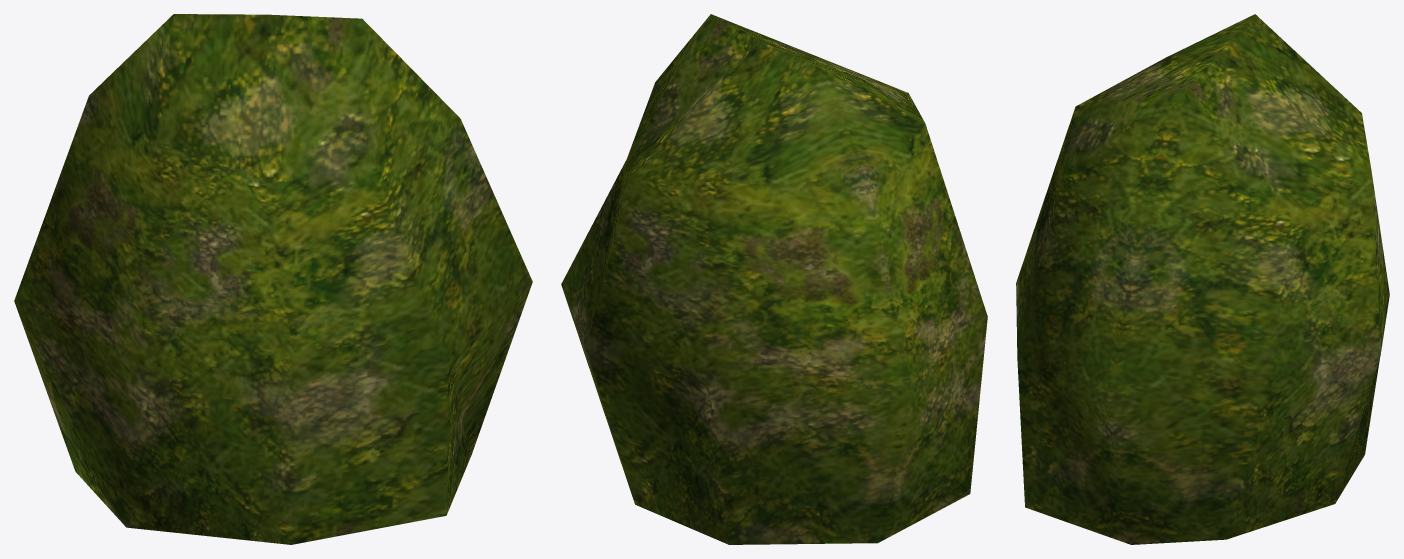
File: OVERHILL_A_01_BR_ROCK103.fbx
3 views of the same model, side by side, from view 1: azimuth 30°, elevation 25°; view 2: azimuth 150°, elevation 25°; view 3: azimuth 270°, elevation 25° (orthographic). The views are drawn at different scales.
Parts seen in each view (by area): view 1: OVERHILL_A_01_BR_ROCK103; view 2: OVERHILL_A_01_BR_ROCK103; view 3: OVERHILL_A_01_BR_ROCK103.
Boxes of the visible parts, left/top/right/bottom form: OVERHILL_A_01_BR_ROCK103: left=14, top=14, right=532, bottom=544; OVERHILL_A_01_BR_ROCK103: left=561, top=14, right=987, bottom=544; OVERHILL_A_01_BR_ROCK103: left=1016, top=14, right=1389, bottom=544.
Size of the model in its own units: 12350 by 13041 by 10367.
Materials: 1 (1 with a texture image).
